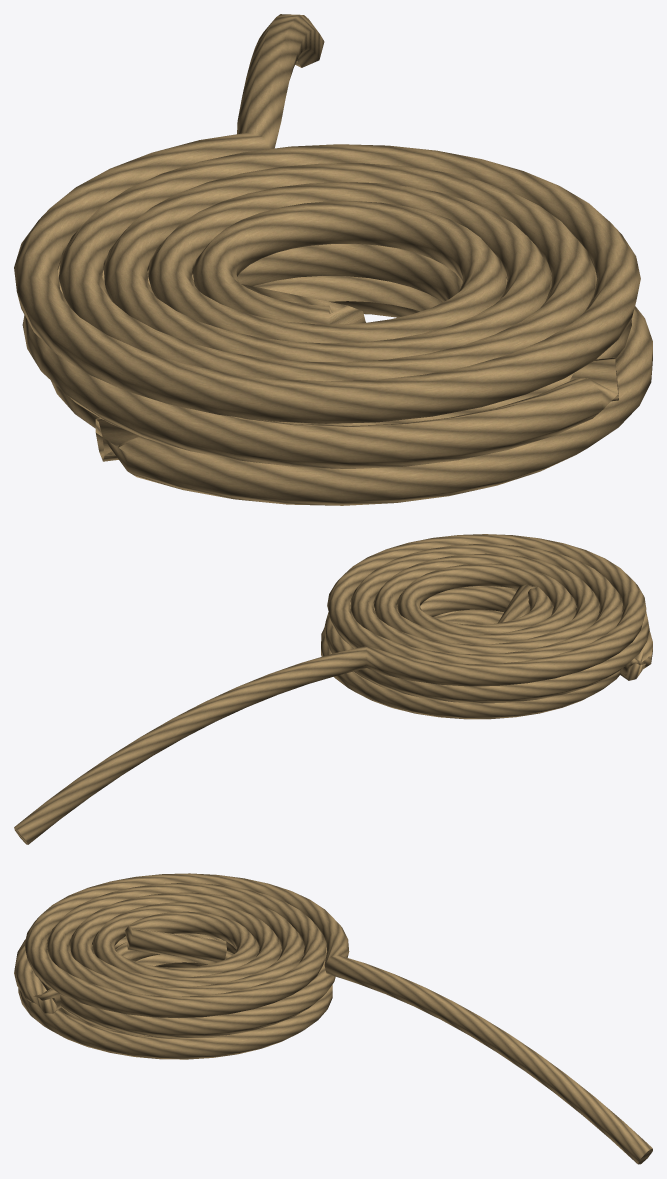
File: rope_coil.glb
3 views of the same model, one above another, from view 1: azimuth 30°, elevation 25°; view 2: azimuth 150°, elevation 25°; view 3: azimuth 270°, elevation 25° (orthographic). The views are drawn at different scales.
Visible parts, largest first — view 1: rope_coil; view 2: rope_coil; view 3: rope_coil.
Part boxes in pixels (box(x1,y1,x2,y2)): rope_coil: box(14, 14, 652, 505); rope_coil: box(14, 534, 652, 844); rope_coil: box(14, 873, 652, 1164).
Bounding box in the file's own units: 0.4443 × 0.143 × 0.6769.
Materials: 1 (1 with a texture image).
